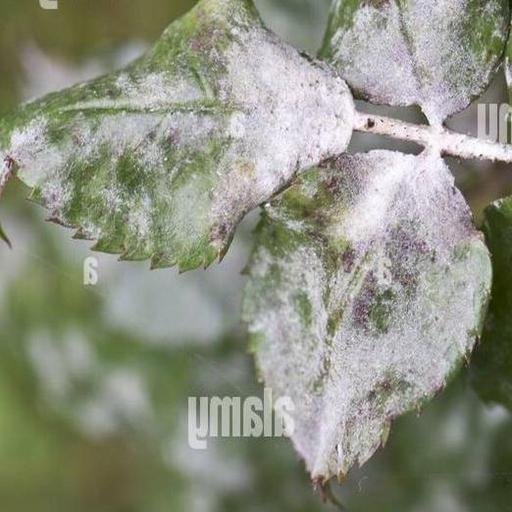powdery_mildew: (0, 0, 354, 269), (244, 150, 490, 480), (320, 0, 510, 125)
